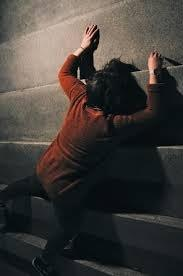fall: (38, 5, 162, 211)
